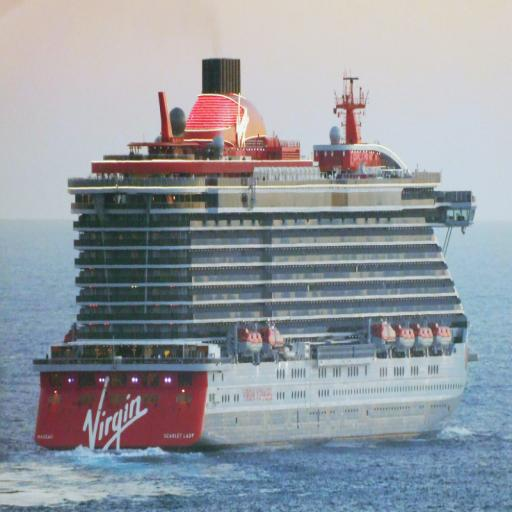cruises: (30, 53, 481, 462)
